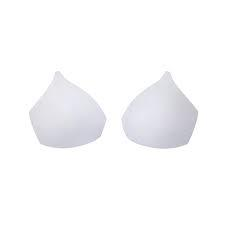Liquid: (25, 43, 212, 193)
